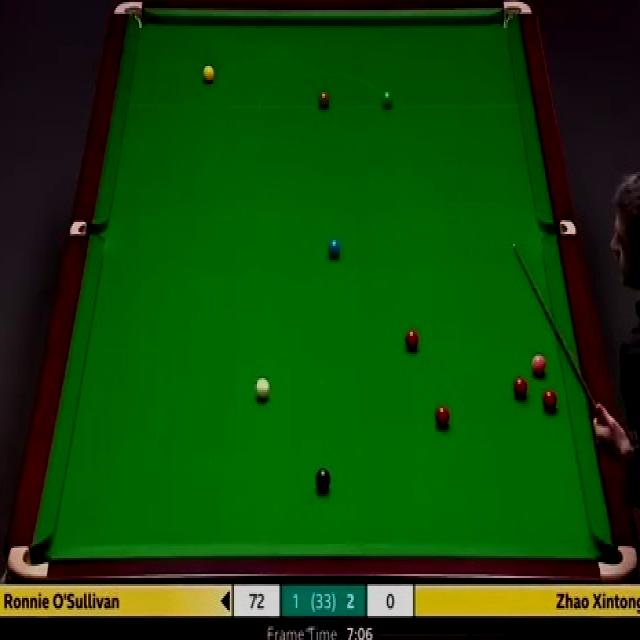black-ball: (315, 465, 331, 491)
blue-ball: (328, 236, 341, 262)
brown-ball: (317, 91, 331, 109)
green-ball: (380, 88, 395, 110)
pink-ball: (530, 352, 548, 378)
red-ball: (404, 328, 422, 356), (433, 407, 451, 432), (512, 376, 528, 399), (542, 389, 556, 413)
white-ball: (255, 376, 271, 399)
yellow-ball: (203, 66, 215, 85)
